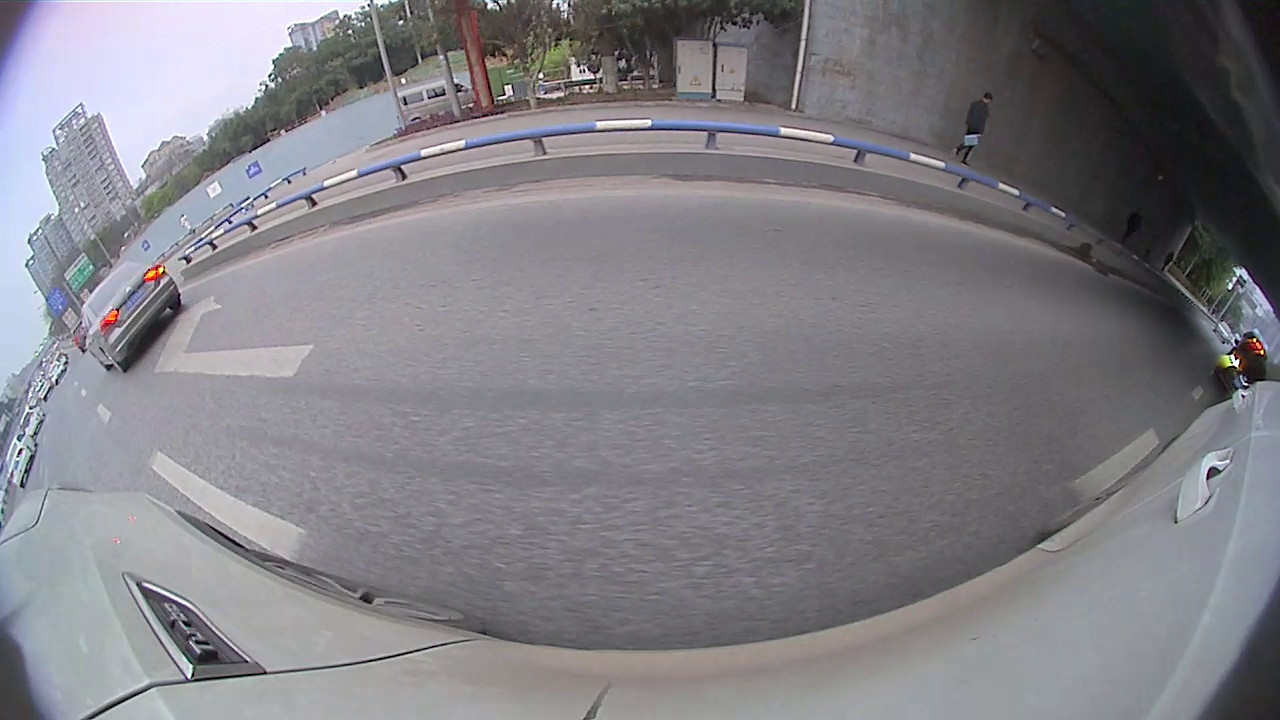car: (79, 259, 184, 375), (393, 79, 478, 127), (1214, 342, 1270, 397), (1, 432, 40, 491), (17, 403, 47, 438)
front: (89, 346, 110, 373)
person: (967, 93, 993, 168), (1126, 210, 1143, 248)
rear: (99, 346, 128, 375), (162, 286, 187, 314)
